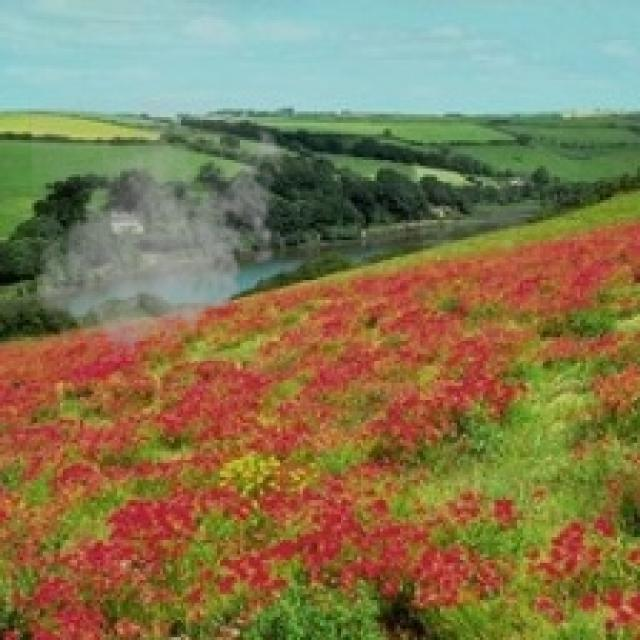smoke: (28, 97, 292, 366)
